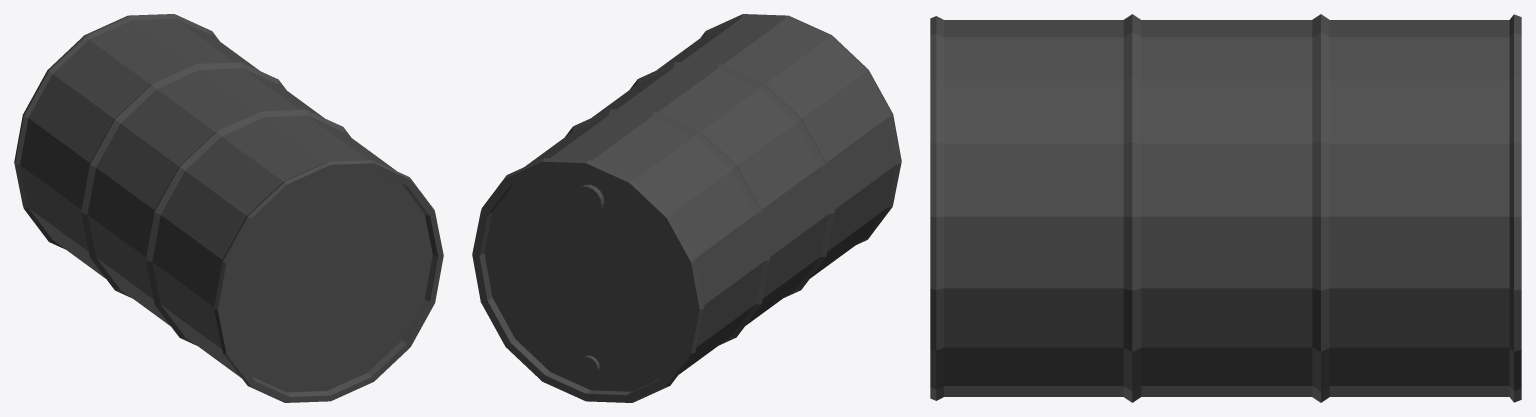
Rendered from Barrel_Black.fbx.
3 views of the same model, side by side, from view 1: azimuth 30°, elevation 25°; view 2: azimuth 150°, elevation 25°; view 3: azimuth 270°, elevation 25° (orthographic). The views are drawn at different scales.
Visible parts, largest first — view 1: Barrel_Black; view 2: Barrel_Black; view 3: Barrel_Black.
Boxes of the visible parts, x1,y1,x2,y2 form: Barrel_Black: (14,14,443,402); Barrel_Black: (472,14,901,402); Barrel_Black: (930,14,1521,402).
Size of the model in its own units: 0.8071 by 0.8071 by 1.23.
